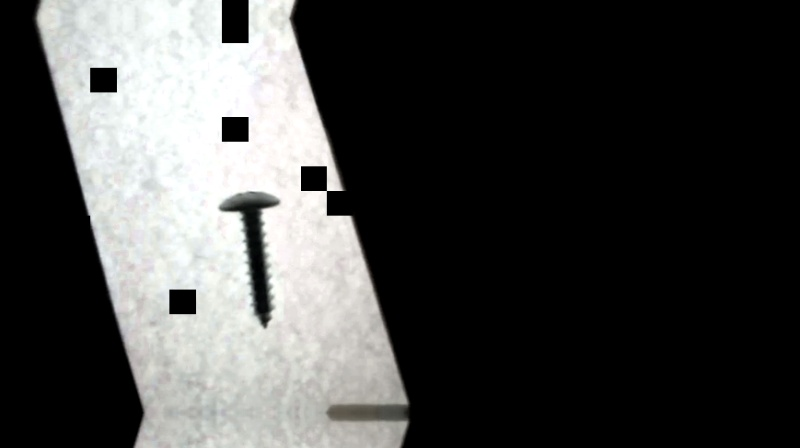S003: (215, 188, 284, 332)
